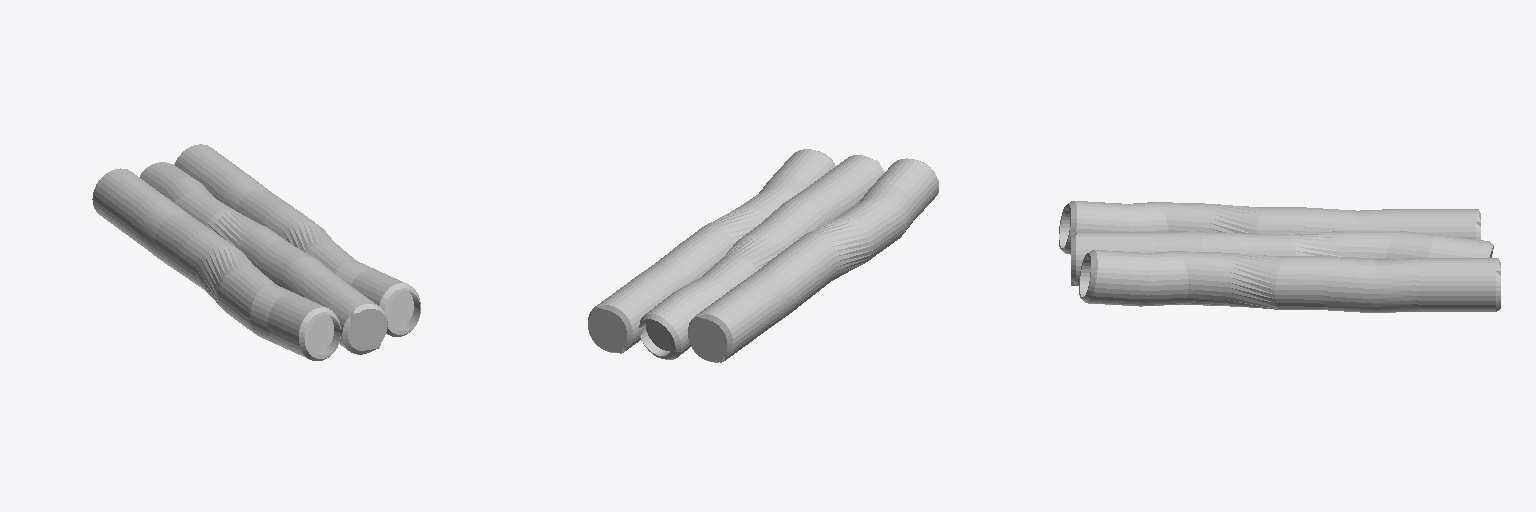
Rendered from STICKS.obj.
3 renders of one model, left to right at view 1: azimuth 30°, elevation 25°; view 2: azimuth 150°, elevation 25°; view 3: azimuth 270°, elevation 25°, orthographic.
Visible parts, largest first — view 1: Cylinder.002; view 2: Cylinder.002; view 3: Cylinder.002.
Part boxes in pixels (bbox=[...]): Cylinder.002: bbox=[92, 144, 420, 360]; Cylinder.002: bbox=[588, 149, 938, 362]; Cylinder.002: bbox=[1059, 201, 1500, 312].
Bounding box in the file's own units: 1.01 × 0.432 × 2.66.